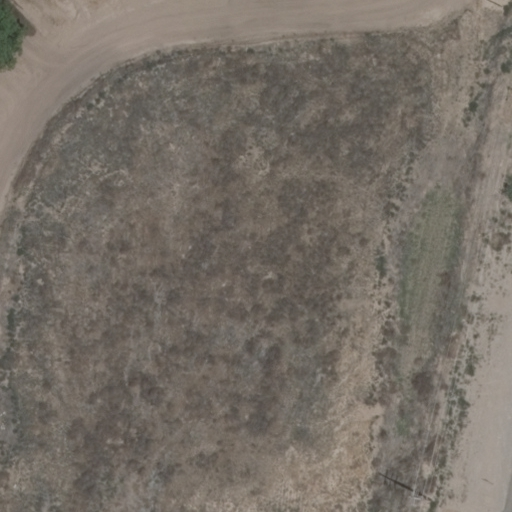DT: (406, 476, 443, 510)
